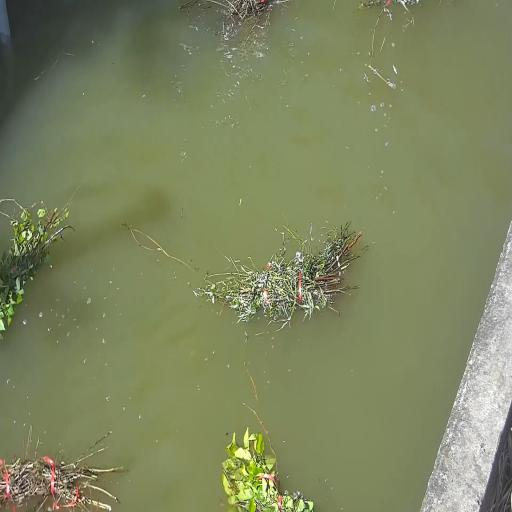twig: (204, 221, 360, 310), (0, 162, 72, 351), (216, 409, 310, 512), (0, 430, 112, 512), (207, 0, 300, 49), (357, 0, 416, 22)
